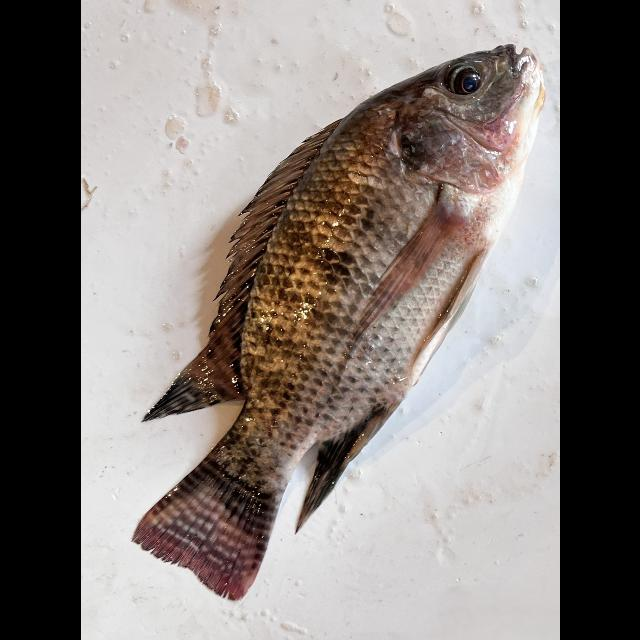Tilapia: (130, 43, 550, 602)
